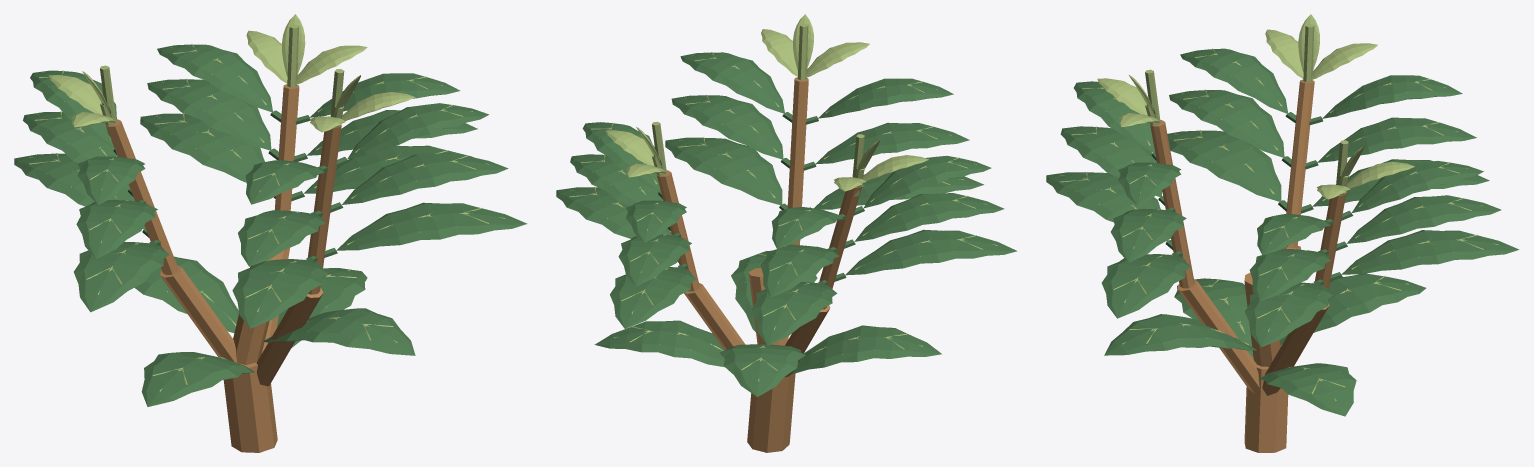
The model's file is SM_TeaNonTom.fbx.
The picture shows the model from 3 angles, left to right: view 1: azimuth 30°, elevation 25°; view 2: azimuth 150°, elevation 25°; view 3: azimuth 270°, elevation 25°; orthographic projection. The views are drawn at different scales.
Visible parts, largest first — view 1: FoliageRoot, ReadyAccents; view 2: FoliageRoot, ReadyAccents; view 3: FoliageRoot, ReadyAccents.
Part boxes in pixels (x1,y1,x2,y2): FoliageRoot: (14, 44, 527, 452); ReadyAccents: (48, 14, 415, 132); FoliageRoot: (556, 52, 1017, 452); ReadyAccents: (606, 14, 928, 191); FoliageRoot: (1046, 48, 1519, 452); ReadyAccents: (1097, 14, 1414, 199).
Size of the model in its own units: 0.9 by 0.78 by 0.8654.
